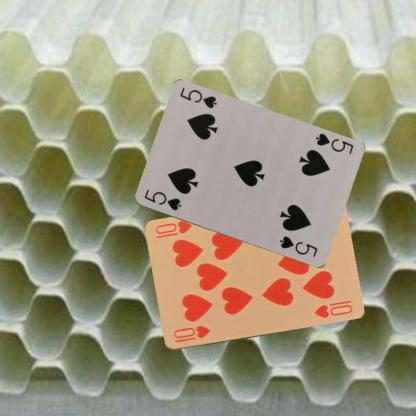10h: (170, 323, 212, 344)
5s: (141, 187, 183, 212), (312, 131, 354, 156)
